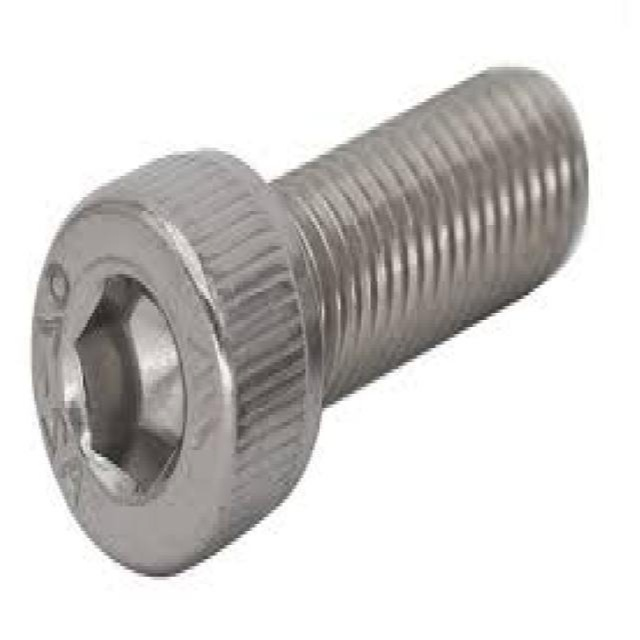allen: (29, 194, 235, 574)
